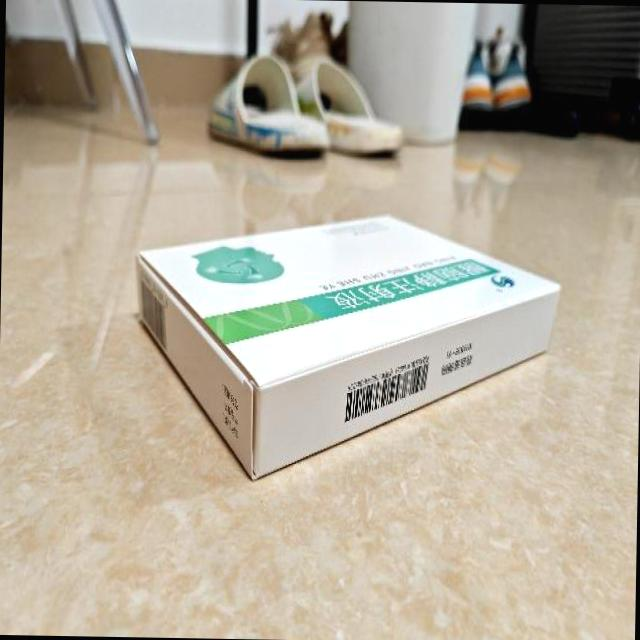box: (135, 208, 562, 484)
